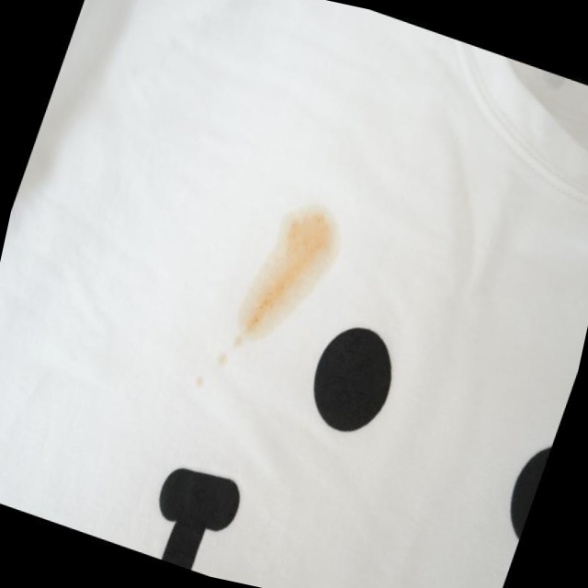kimchi: (190, 181, 353, 406)
